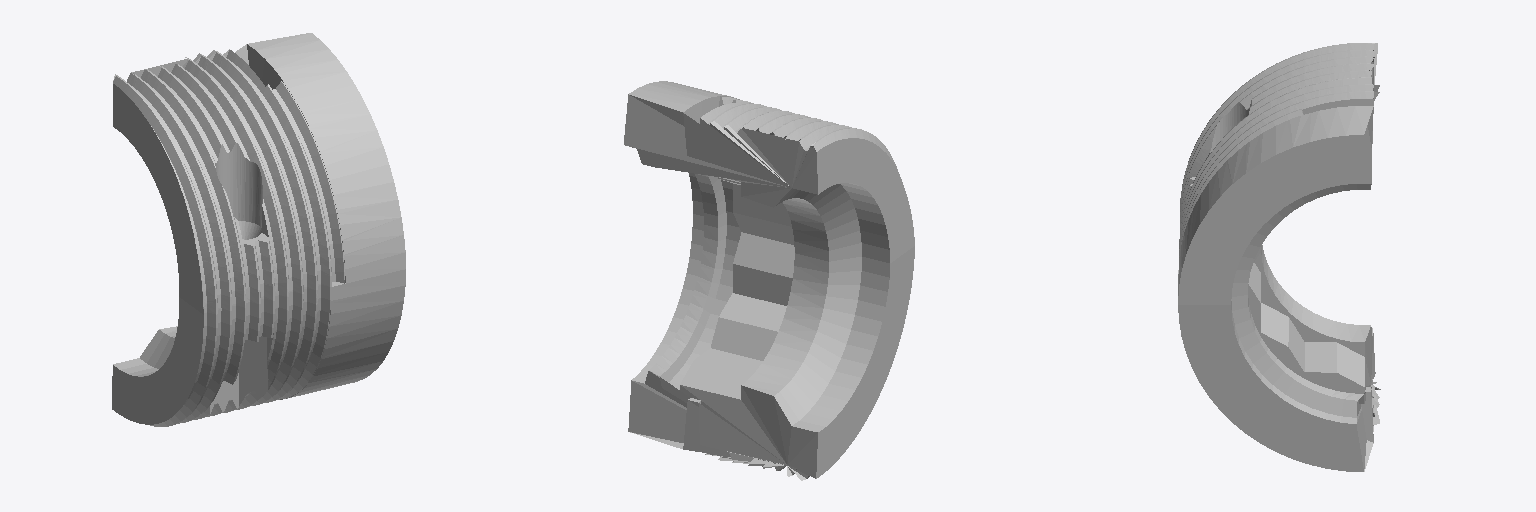
Rendered from adaptador1_esquerdo.obj.
3 views of the same model, side by side, from view 1: azimuth 30°, elevation 25°; view 2: azimuth 150°, elevation 25°; view 3: azimuth 270°, elevation 25° (orthographic).
Visible parts, largest first — view 1: ConjAdaptadorInteriorRosca_T1Cal_160908; view 2: ConjAdaptadorInteriorRosca_T1Cal_160908; view 3: ConjAdaptadorInteriorRosca_T1Cal_160908.
Part boxes in pixels (left/top/right/bottom): ConjAdaptadorInteriorRosca_T1Cal_160908: left=112, top=33, right=405, bottom=426; ConjAdaptadorInteriorRosca_T1Cal_160908: left=624, top=81, right=914, bottom=480; ConjAdaptadorInteriorRosca_T1Cal_160908: left=1178, top=43, right=1380, bottom=471.
Size of the model in its own units: 2.52 by 4.08 by 2.23.